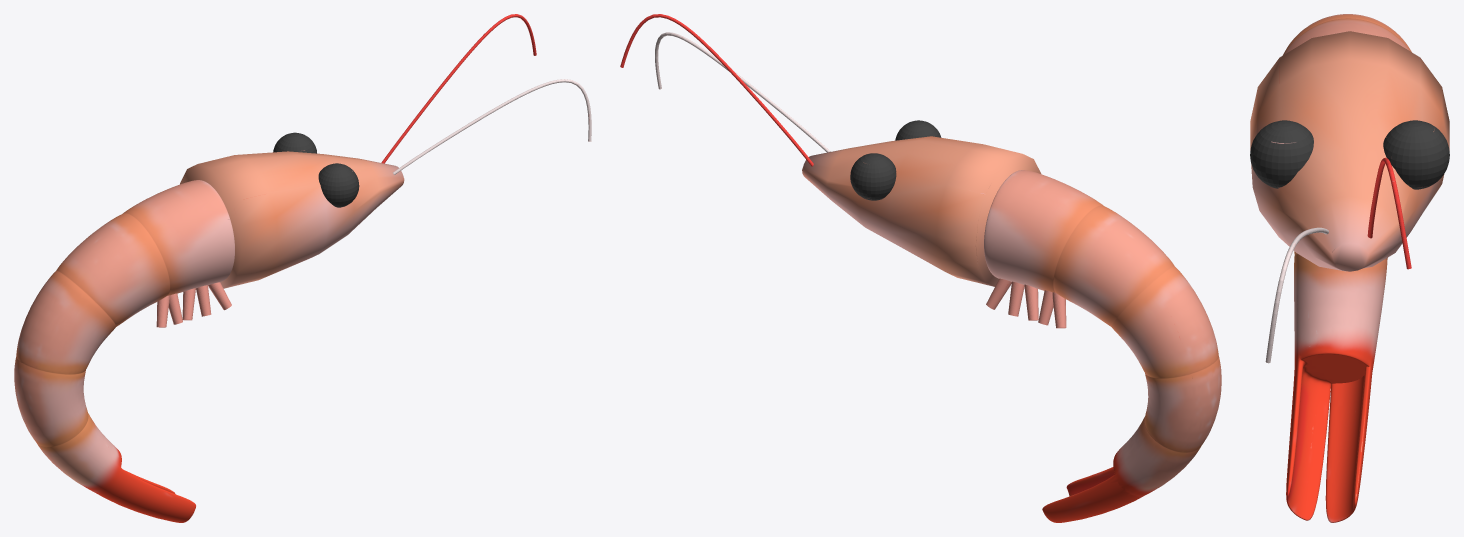
The model's file is takaebi.glb.
3 views of the same model, side by side, from view 1: azimuth 30°, elevation 25°; view 2: azimuth 150°, elevation 25°; view 3: azimuth 270°, elevation 25° (orthographic). The views are drawn at different scales.
Size of the model in its own units: 9.9 by 6.95 by 2.
1 material, 1 textured.
